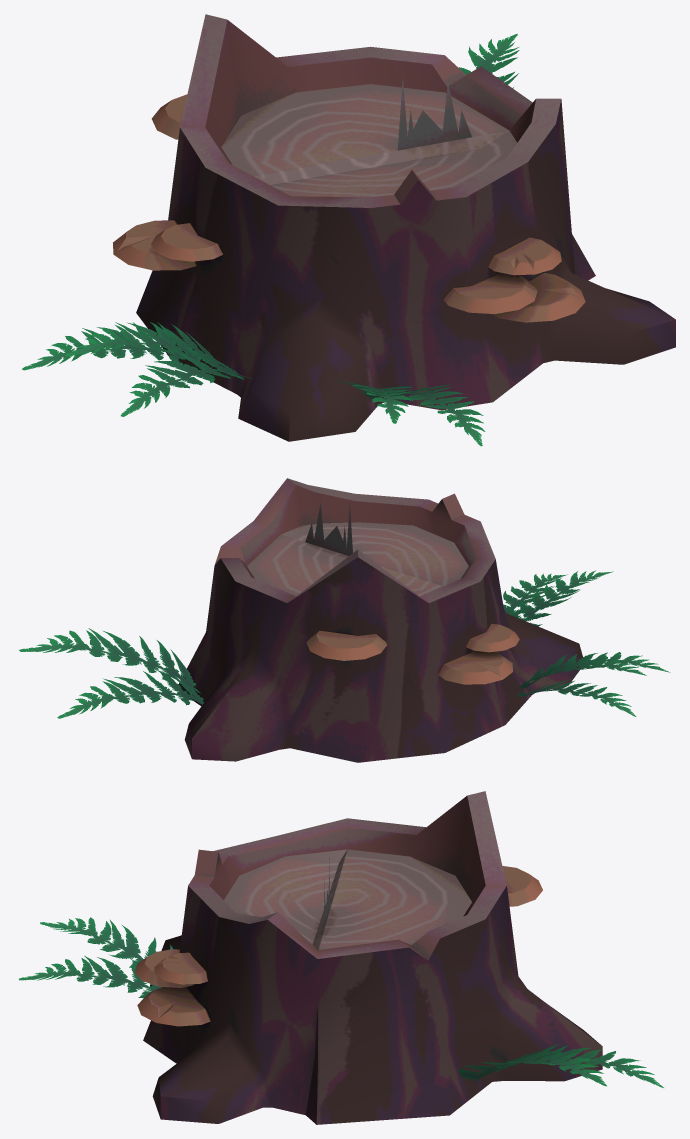
The model's file is stump1.glb.
3 renders of one model, top to bottom at view 1: azimuth 30°, elevation 25°; view 2: azimuth 150°, elevation 25°; view 3: azimuth 270°, elevation 25°, orthographic. The views are drawn at different scales.
Visible parts, largest first — view 1: stump1; view 2: stump1; view 3: stump1.
Boxes of the visible parts, x1=… form: stump1: x1=22, y1=14, x2=675, y2=446; stump1: x1=19, y1=478, x2=670, y2=762; stump1: x1=19, y1=791, x2=663, y2=1124.
Bounding box in the file's own units: 1.34 × 0.4877 × 1.36.
Materials: 2 (2 with a texture image).
